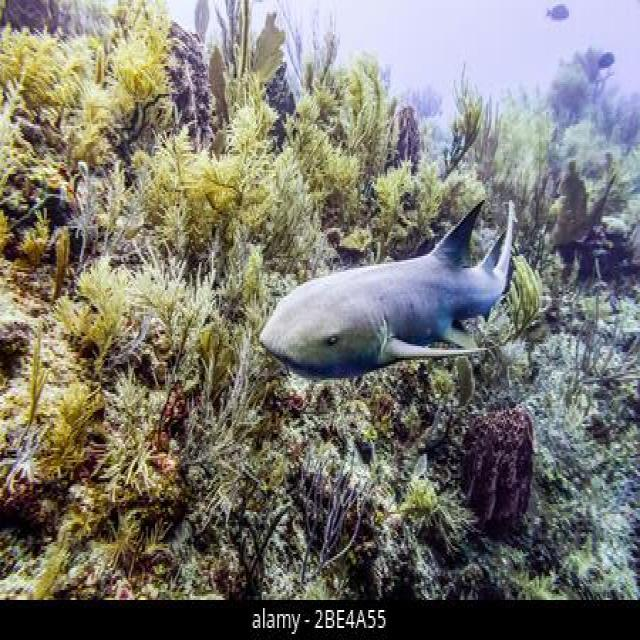Shark: (240, 154, 532, 390)
